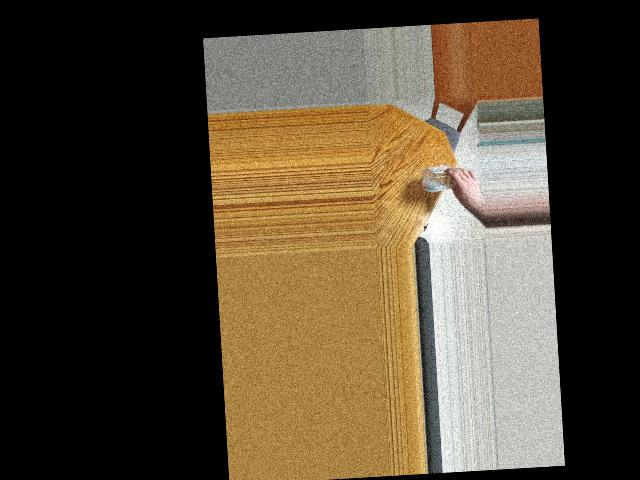cheese: (420, 155, 461, 209)
